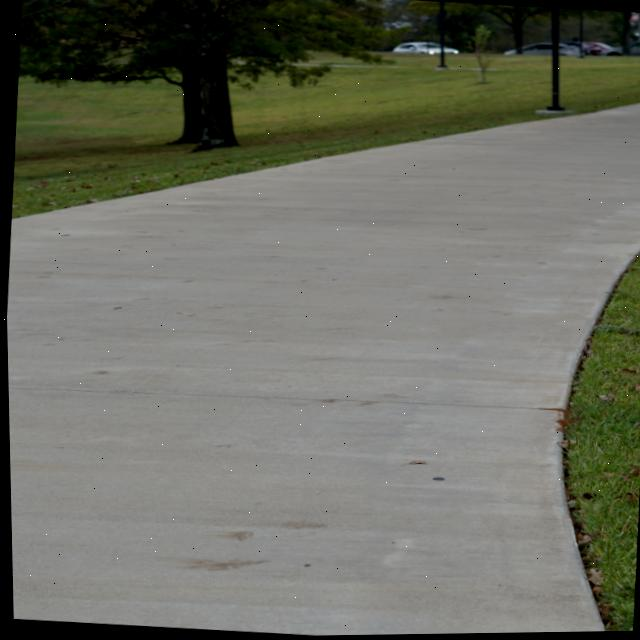Sidewalk: (5, 105, 640, 636)
